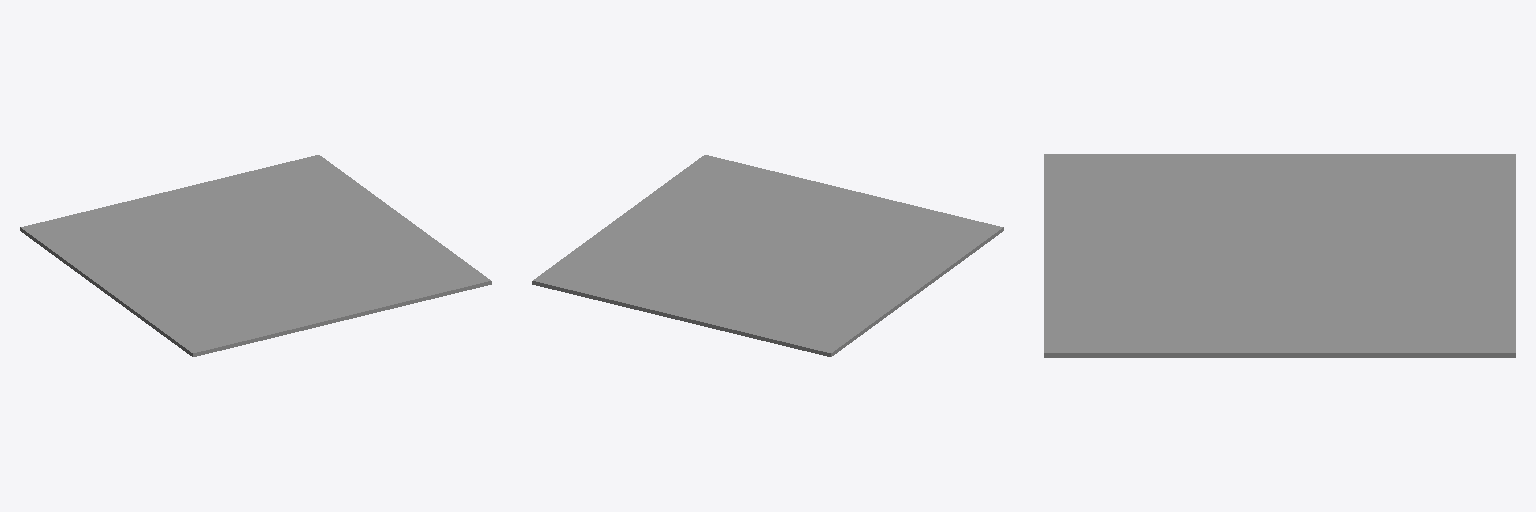
URDF robot description (floor):
<robot name="floor">
  <link name="base_link">
    <visual>
      <origin xyz="0 0 0" rpy="0 0 0" />
      <geometry>
        <mesh filename="package://hpp_environments/meshes/hrp2/floor.dae"/>
      </geometry>
    </visual>
    <collision>
      <origin xyz="0 0 0" rpy="0 0 0" />
      <geometry>
        <mesh filename="package://hpp_environments/meshes/hrp2/floor.dae"/>
      </geometry>
    </collision>
  </link>
</robot>

--- Facts derived from the render (not from the file) ---
The picture shows the robot from 3 angles, left to right: view 1: azimuth 30°, elevation 25°; view 2: azimuth 150°, elevation 25°; view 3: azimuth 270°, elevation 25°; orthographic projection.
Robot: floor — 1 links, 0 joints (none); root link base_link; default pose: all joints at 0.
Links seen in each view (by area): view 1: base_link; view 2: base_link; view 3: base_link.
Boxes of the visible links, box(x1,y1,x2,y2) form: base_link: box(20, 155, 491, 356); base_link: box(532, 155, 1003, 356); base_link: box(1044, 154, 1515, 357).
Size in the robot's own frame: 8 by 8 by 0.1 metres.
1 mesh visuals loaded from 1 distinct referenced files (1 Collada DAE).